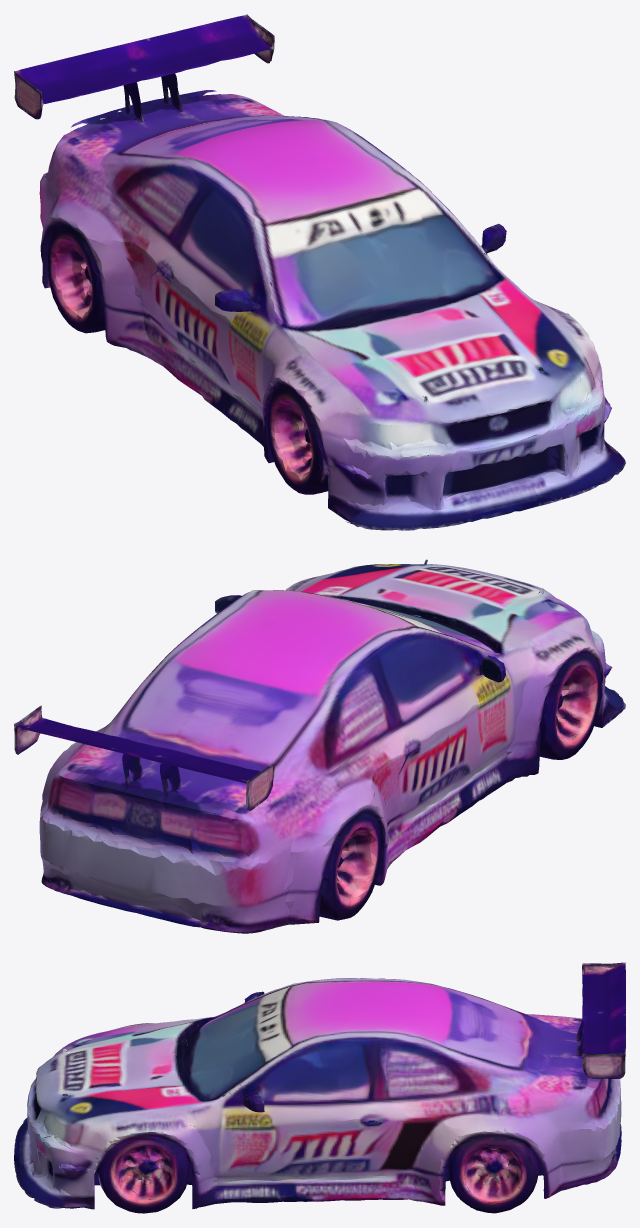
The model's file is supergt2.glb.
3 views of the same model, one above another, from view 1: azimuth 30°, elevation 25°; view 2: azimuth 150°, elevation 25°; view 3: azimuth 270°, elevation 25° (orthographic). The views are drawn at different scales.
Visible parts, largest first — view 1: body, panel_bumper_f, panel_trunk, wheel_front_L, wheel_rear_L, wheel_front_R, panel_roof, panel_hood; view 2: body, panel_trunk, panel_bumper_r, wheel_rear_L, wheel_front_L, panel_hood, panel_roof, panel_bumper_f; view 3: body, wheel_front_R, wheel_rear_R, panel_trunk, panel_bumper_f, panel_bumper_r, panel_hood, panel_roof.
Part boxes in pixels (x1=…): body: x1=39, y1=94, x2=625, y2=530; panel_bumper_f: x1=267, y1=346, x2=603, y2=510; panel_trunk: x1=14, y1=14, x2=274, y2=249; wheel_front_L: x1=205, y1=387, x2=453, y2=530; wheel_rear_L: x1=40, y1=217, x2=201, y2=395; wheel_front_R: x1=528, y1=313, x2=625, y2=492; panel_roof: x1=215, y1=143, x2=506, y2=312; panel_hood: x1=239, y1=239, x2=543, y2=401; body: x1=39, y1=564, x2=625, y2=932; panel_trunk: x1=14, y1=705, x2=374, y2=856; panel_bumper_r: x1=40, y1=745, x2=379, y2=922; wheel_rear_L: x1=200, y1=780, x2=446, y2=933; wheel_front_L: x1=448, y1=618, x2=625, y2=822; panel_hood: x1=326, y1=559, x2=543, y2=663; panel_roof: x1=214, y1=594, x2=505, y2=682; panel_bumper_f: x1=349, y1=592, x2=599, y2=696; body: x1=14, y1=978, x2=621, y2=1207; wheel_front_R: x1=19, y1=1121, x2=316, y2=1213; wheel_rear_R: x1=308, y1=1131, x2=617, y2=1213; panel_trunk: x1=442, y1=962, x2=625, y2=1150; panel_bumper_f: x1=27, y1=1039, x2=195, y2=1175; panel_bumper_r: x1=454, y1=1079, x2=621, y2=1172; panel_hood: x1=62, y1=1000, x2=247, y2=1107; panel_roof: x1=244, y1=983, x2=370, y2=1112.
Bounding box in the file's own units: 1.72 × 1.13 × 4.
Materials: 1 (1 with a texture image).
